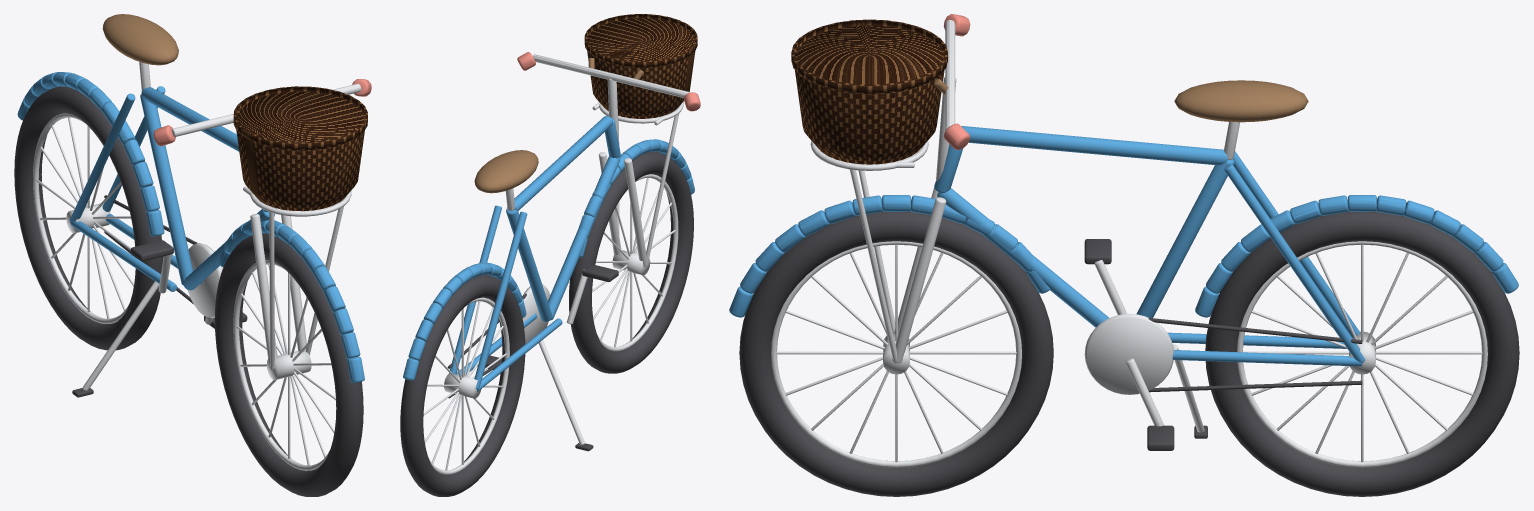
Rendered from bike_blue.glb.
3 renders of one model, left to right at view 1: azimuth 30°, elevation 25°; view 2: azimuth 150°, elevation 25°; view 3: azimuth 270°, elevation 25°, orthographic. The views are drawn at different scales.
Parts seen in each view (by area): view 1: bike_blue; view 2: bike_blue; view 3: bike_blue.
Boxes of the visible parts, bbox=[...] form: bike_blue: bbox=[14, 14, 371, 496]; bike_blue: bbox=[400, 14, 700, 496]; bike_blue: bbox=[729, 14, 1519, 496].
Size of the model in its own units: 0.6495 by 1.09 by 1.76.
6 materials, 1 textured.
